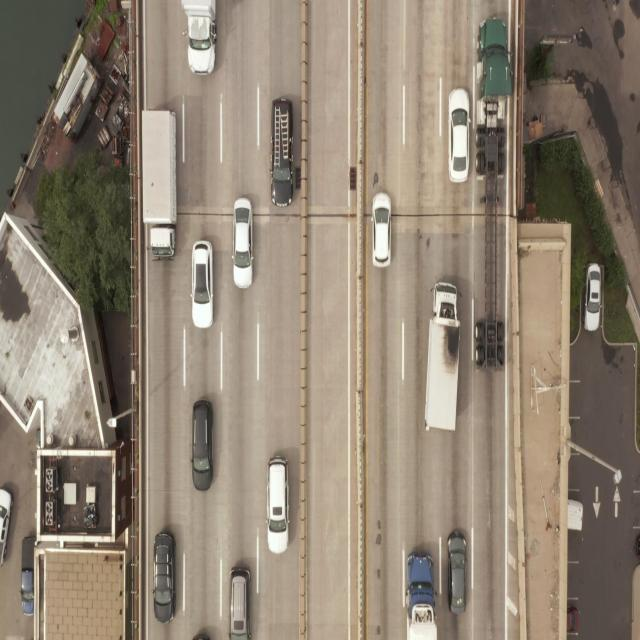Car: (266, 448, 292, 555), (270, 99, 294, 205), (154, 533, 177, 623), (448, 88, 470, 182), (190, 240, 213, 328), (192, 398, 214, 489), (232, 198, 253, 288), (447, 531, 468, 612), (228, 566, 251, 638), (372, 193, 392, 268), (20, 538, 36, 613), (584, 264, 602, 330), (0, 486, 13, 563), (566, 605, 580, 633), (192, 633, 210, 640)
Truck: (421, 280, 464, 440), (139, 105, 180, 264), (404, 543, 440, 640), (180, 0, 218, 75)
